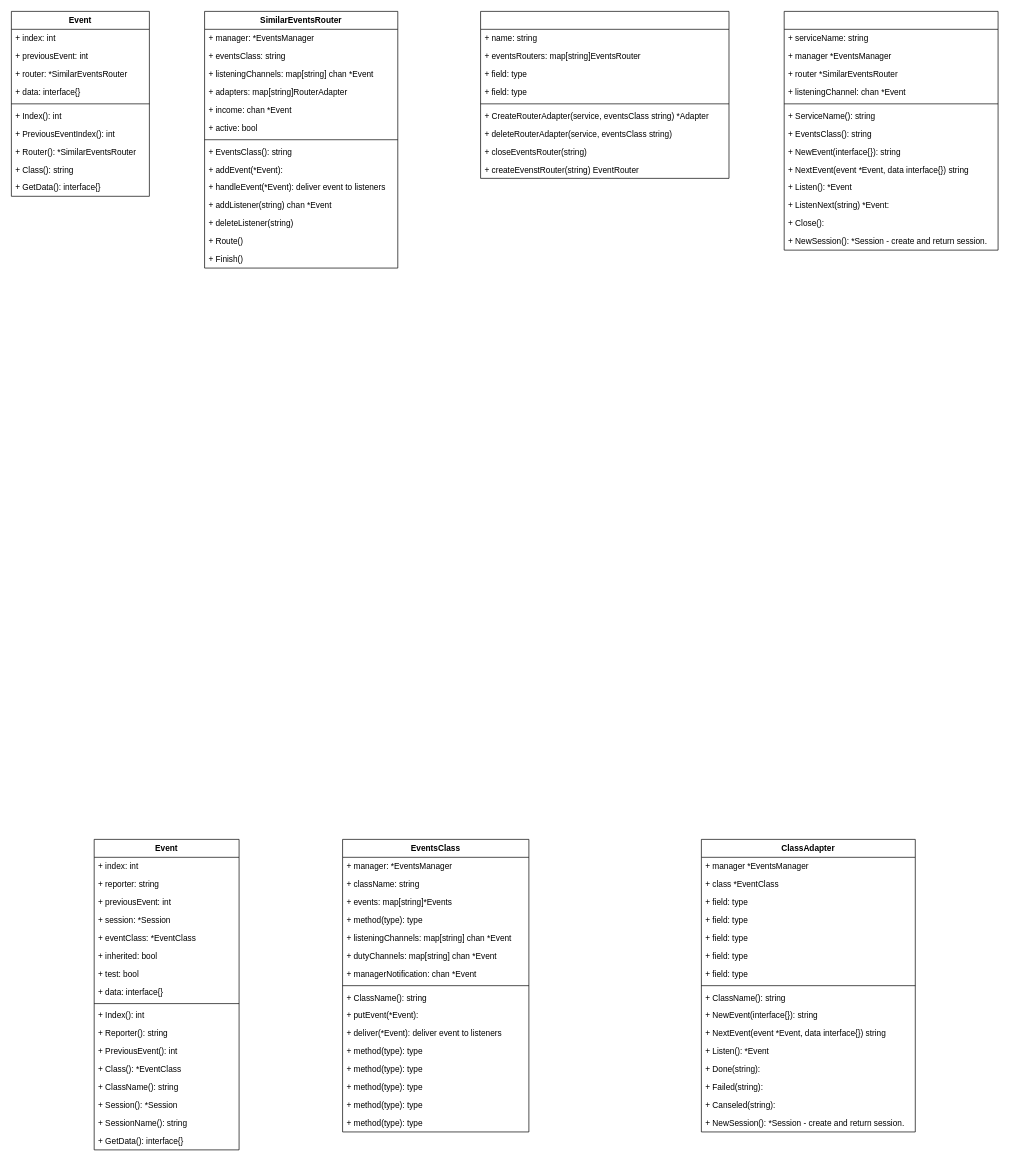
This 1009x1161 diagram has some shape labels left out. Each missing label, with the box of its shape:
EventsManager: (480, 11, 729, 178)
RouterAdapter: (783, 11, 998, 250)
